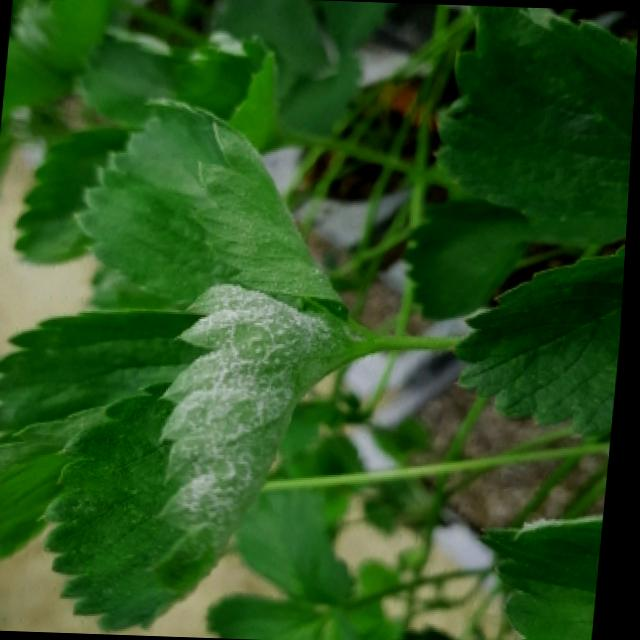Powdery Mildew Leaf: (44, 283, 384, 634), (485, 514, 609, 640)
